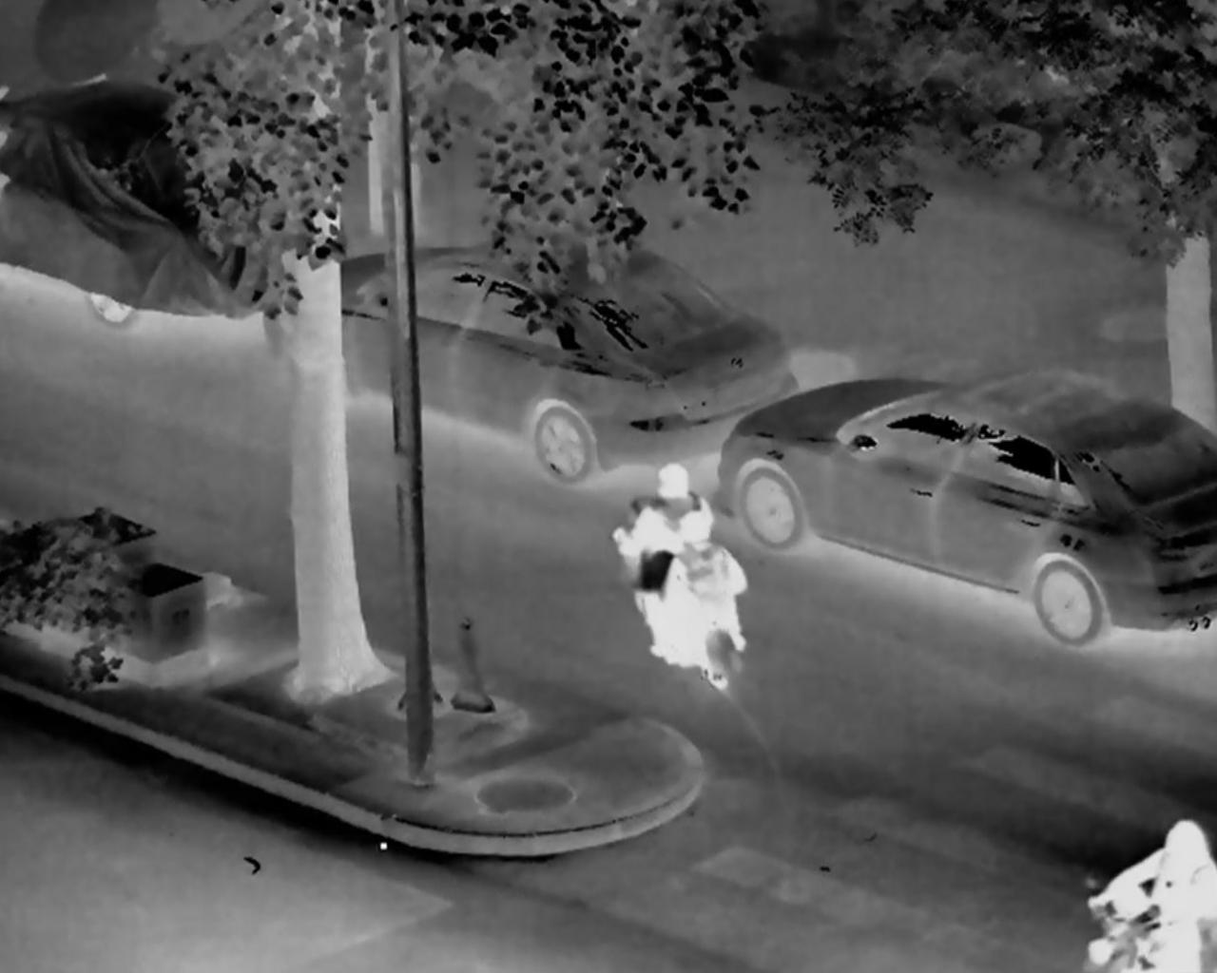person: (626, 456, 763, 705), (1077, 807, 1217, 973)
